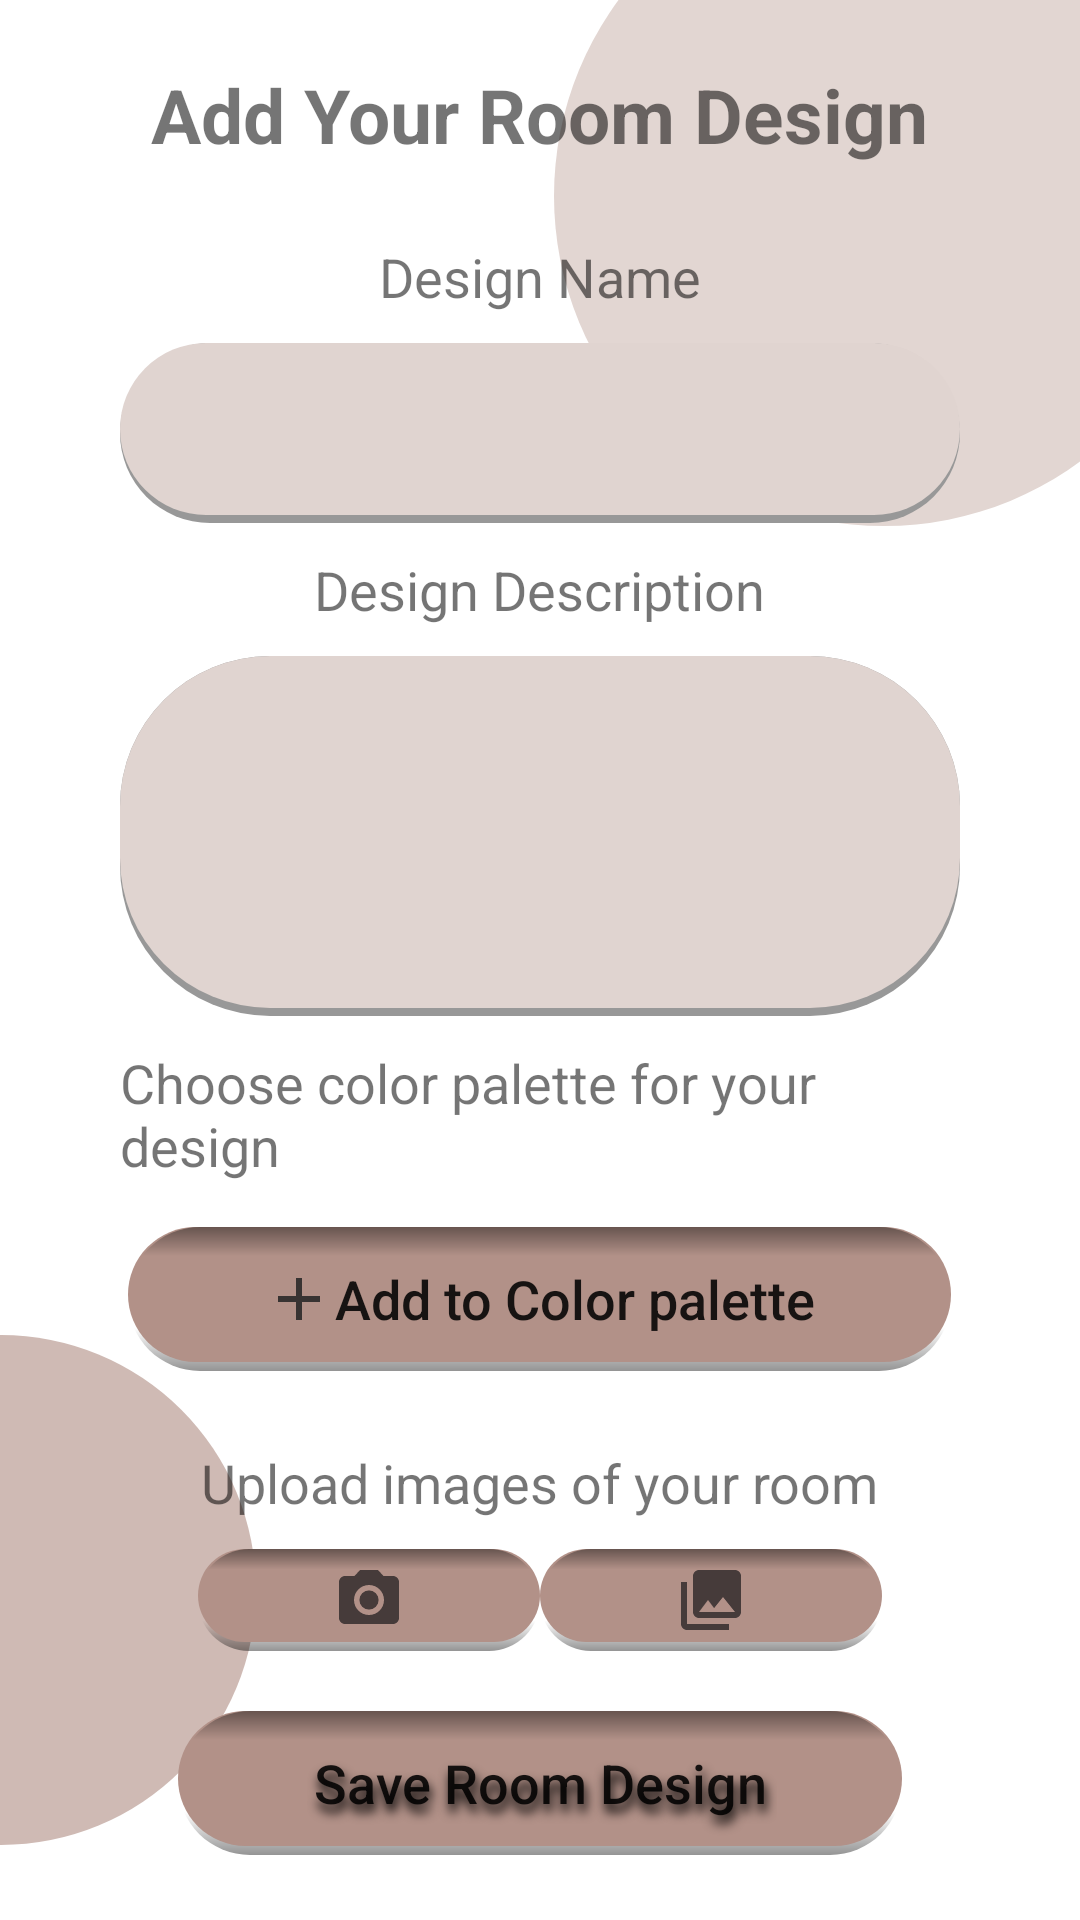

Icons on this 1080×1920 Android screen, each with its box as [left=x1, top=y1, right=x2, bottom=y2]:
photo camera: [left=198, top=1549, right=540, bottom=1651]
photo library: [left=540, top=1549, right=882, bottom=1651]
